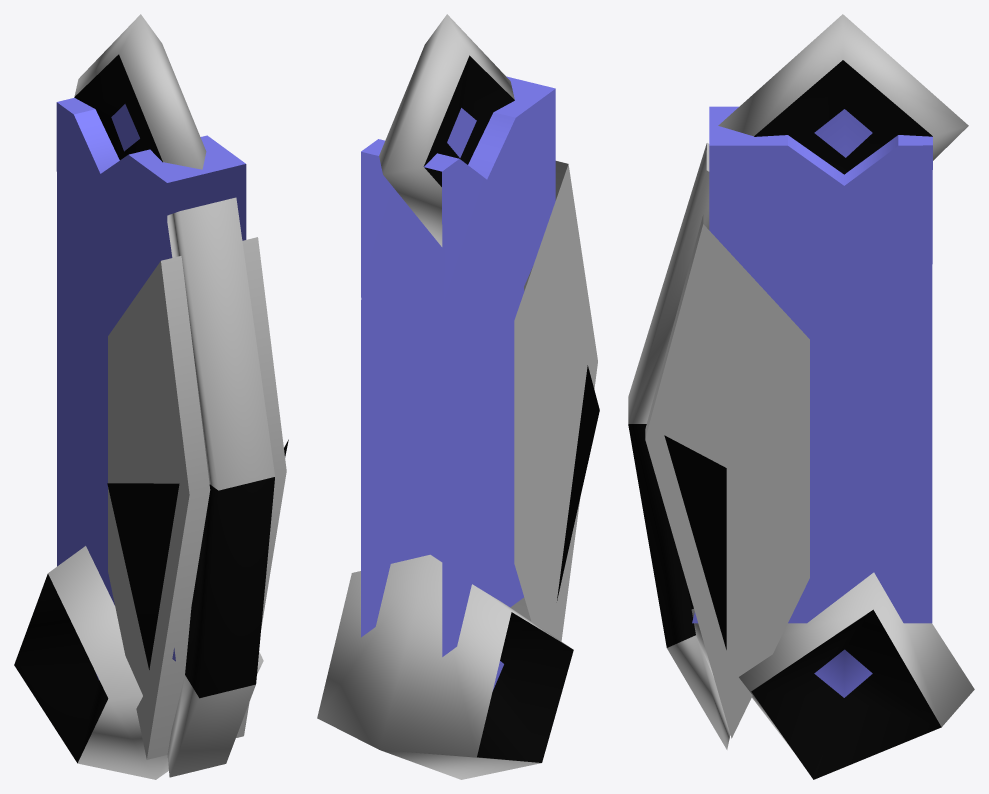
Rendered from lightcycle low.obj.
The picture shows the model from 3 angles, left to right: view 1: azimuth 30°, elevation 25°; view 2: azimuth 150°, elevation 25°; view 3: azimuth 270°, elevation 25°; orthographic projection. The views are drawn at different scales.
Size of the model in its own units: 93.51 by 372 by 153.
